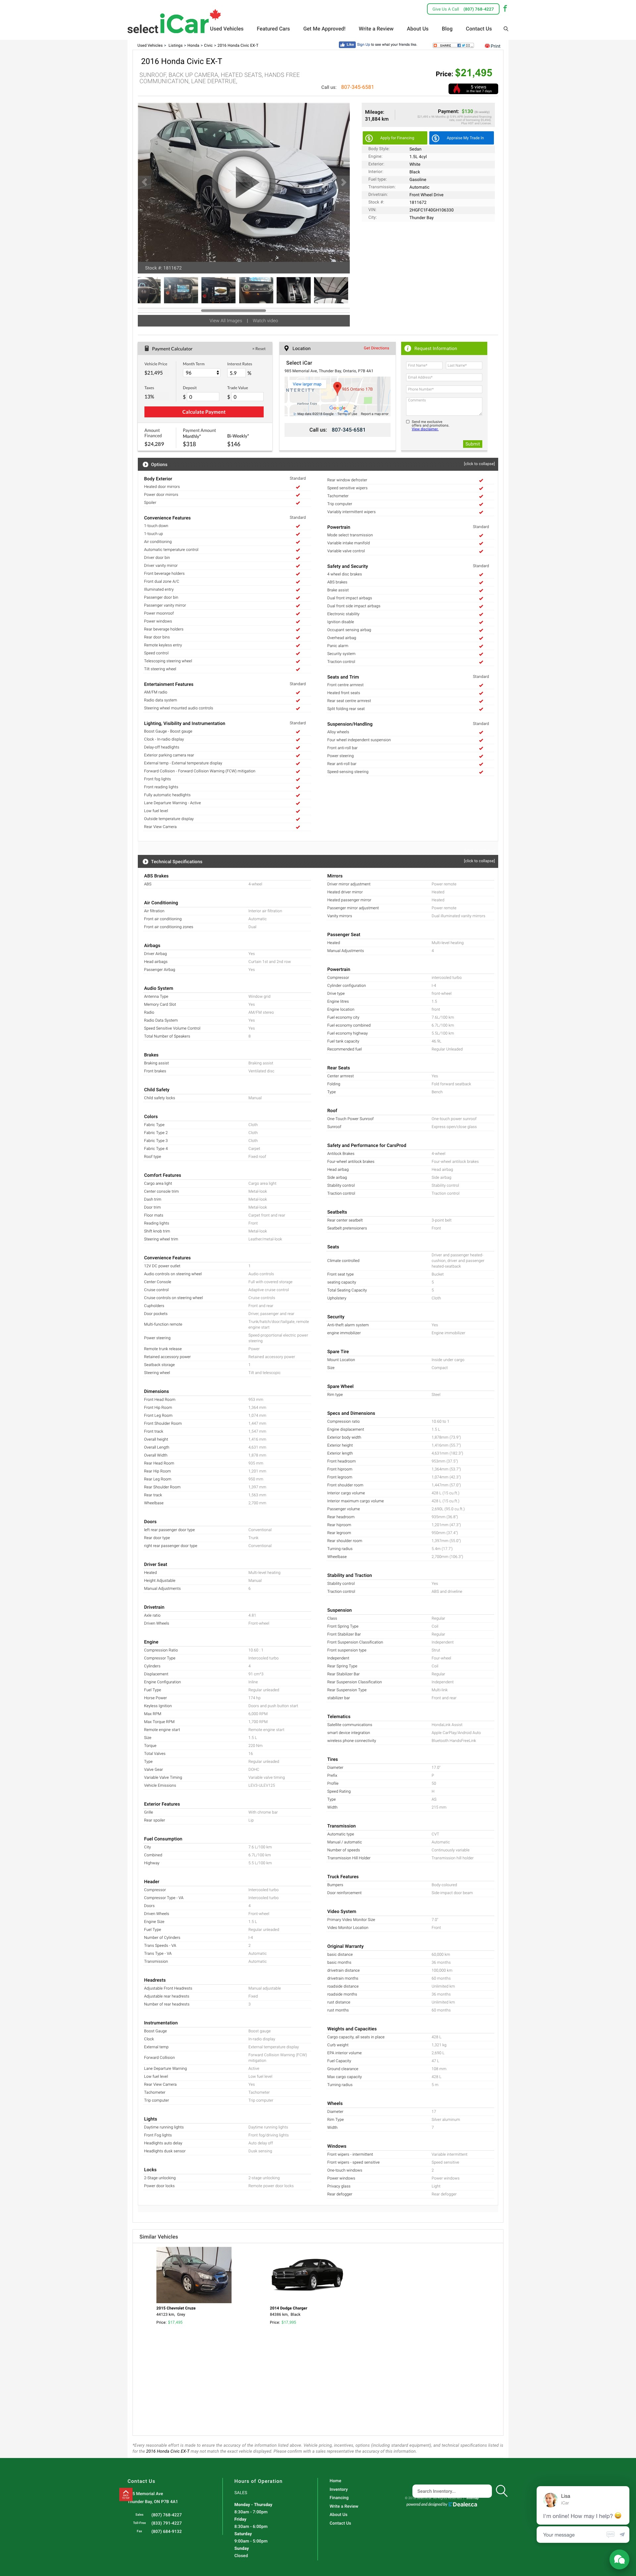car: (342, 179, 347, 187)
